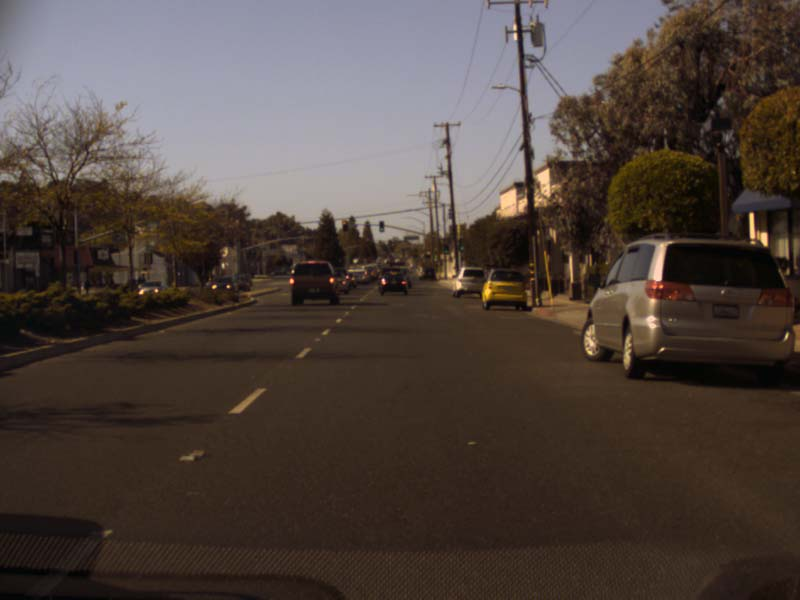Green: (459, 240, 464, 252), (444, 243, 448, 254), (379, 221, 383, 231)
Red: (342, 220, 347, 230)
